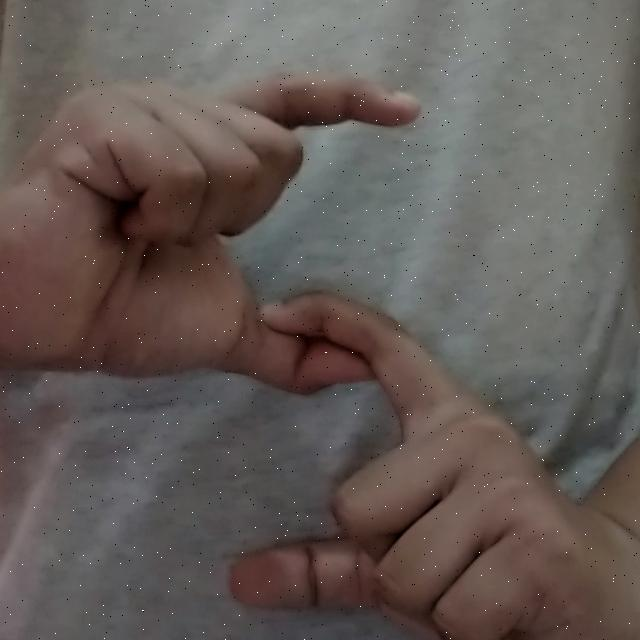S: (27, 64, 554, 626)
